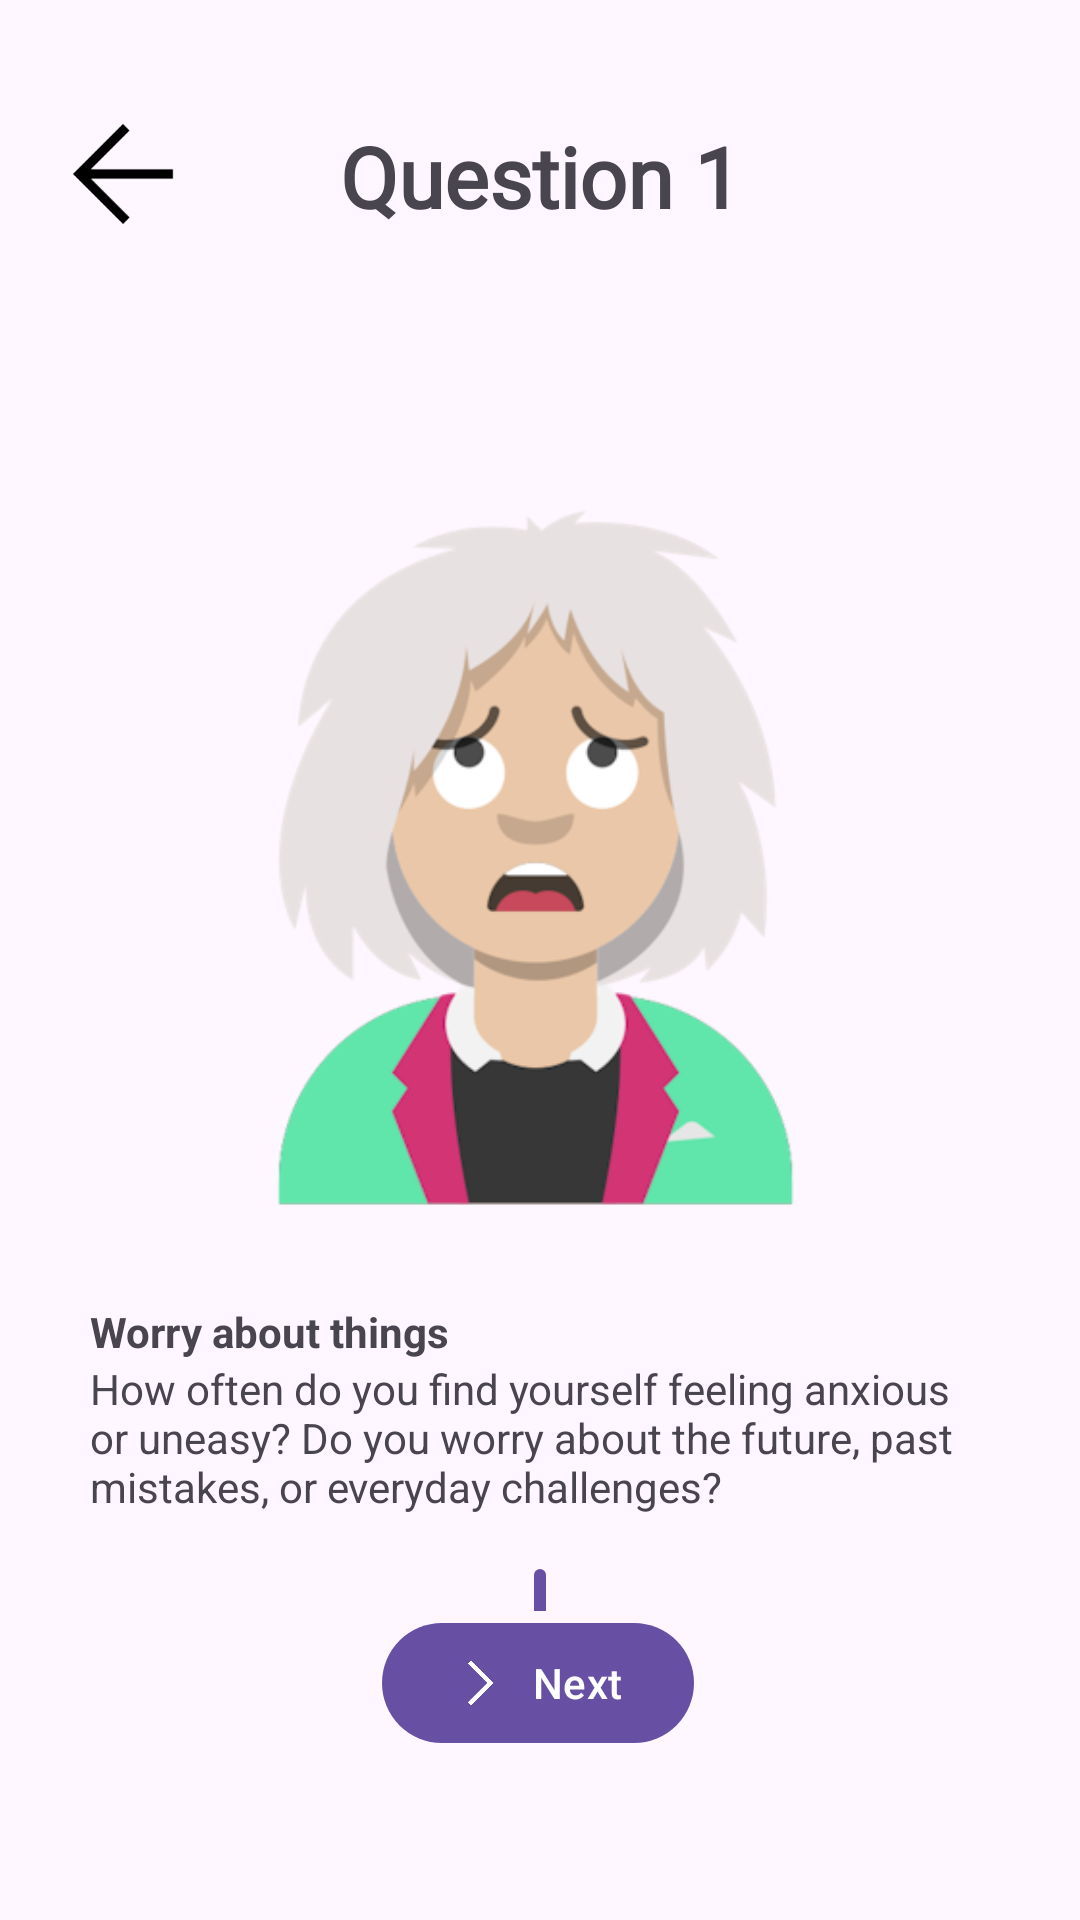

Icon click points for this 1080px x 1920px phone screenshot, format (x=x, y=y):
arrow back: (x=123, y=174)
